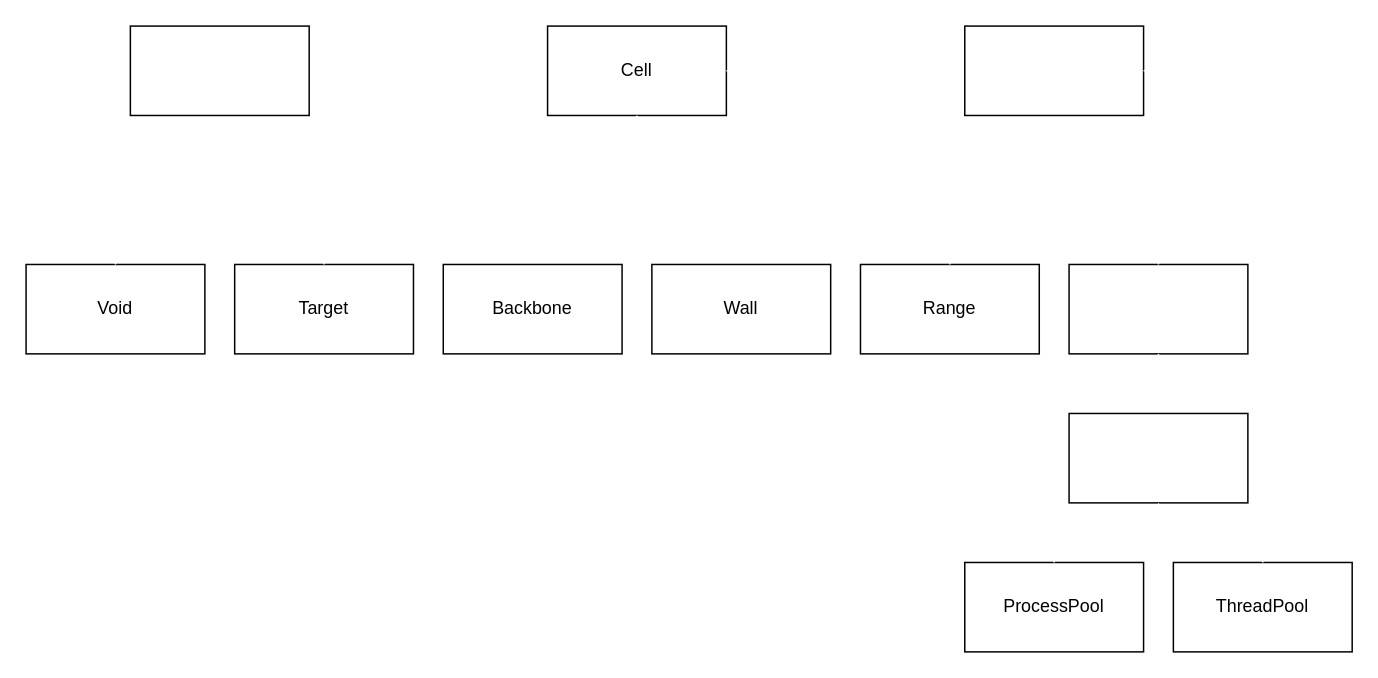
The diagram is 1378 pixels wide and 678 high, and some of its shapes have lost their labels. Each missing label, with the centre of its shape:
BuildPlan: the point at 1053,70
Coords: the point at 219,70
Executor: the point at 1158,457
Router: the point at 1158,308
